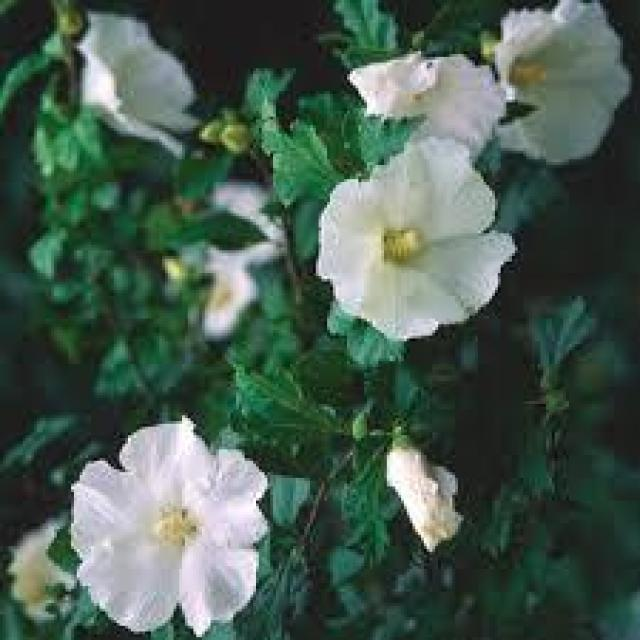organic waste: (71, 421, 276, 623), (311, 145, 525, 336), (330, 33, 535, 175), (486, 5, 628, 174), (48, 12, 210, 154), (364, 427, 486, 560)
